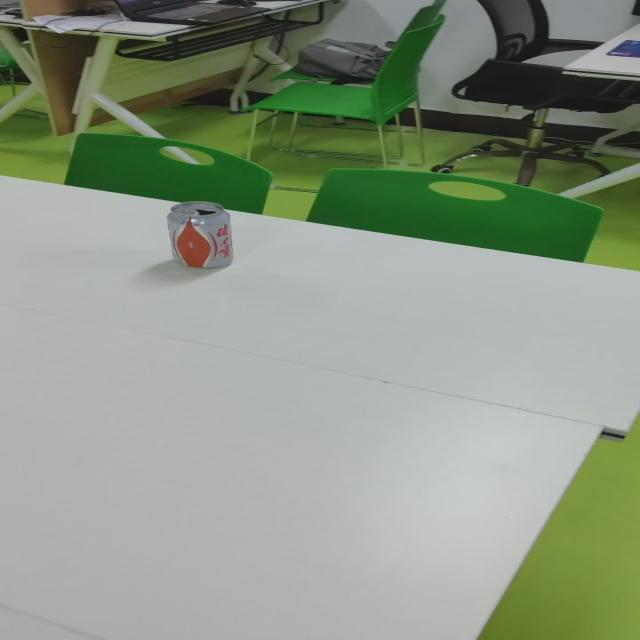can: (167, 198, 236, 272)
